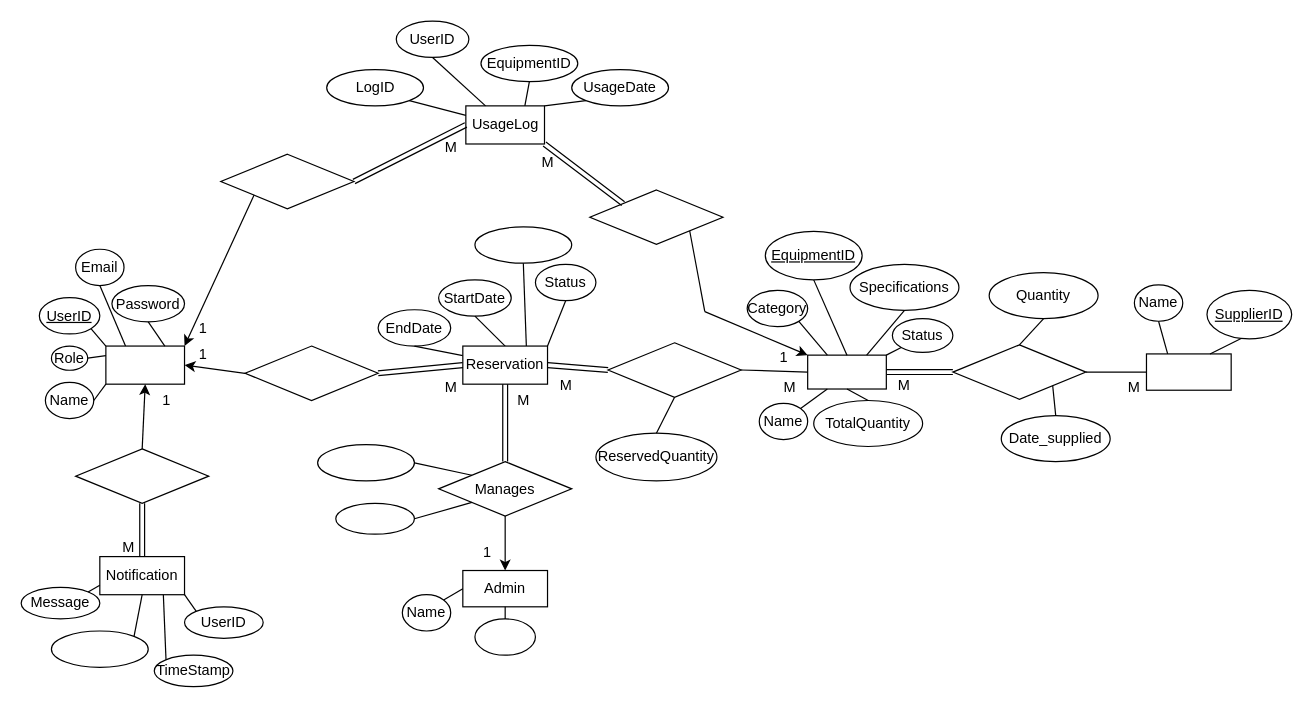
This 1313x708 diagram has some shape labels left out. Each missing label, with the centre of its shape:
AdminID: point (504, 636)
ApprovalDate: point (365, 462)
Decision: point (374, 518)
Equipment: point (846, 371)
Inlcudes: point (674, 369)
Makes: point (311, 373)
NotificationID: point (99, 648)
Receives: point (141, 475)
Records: point (287, 181)
RequestDate: point (523, 244)
Supplied: point (1019, 371)
Supplier: point (1188, 371)
Tracked: point (656, 216)
User: point (145, 364)
